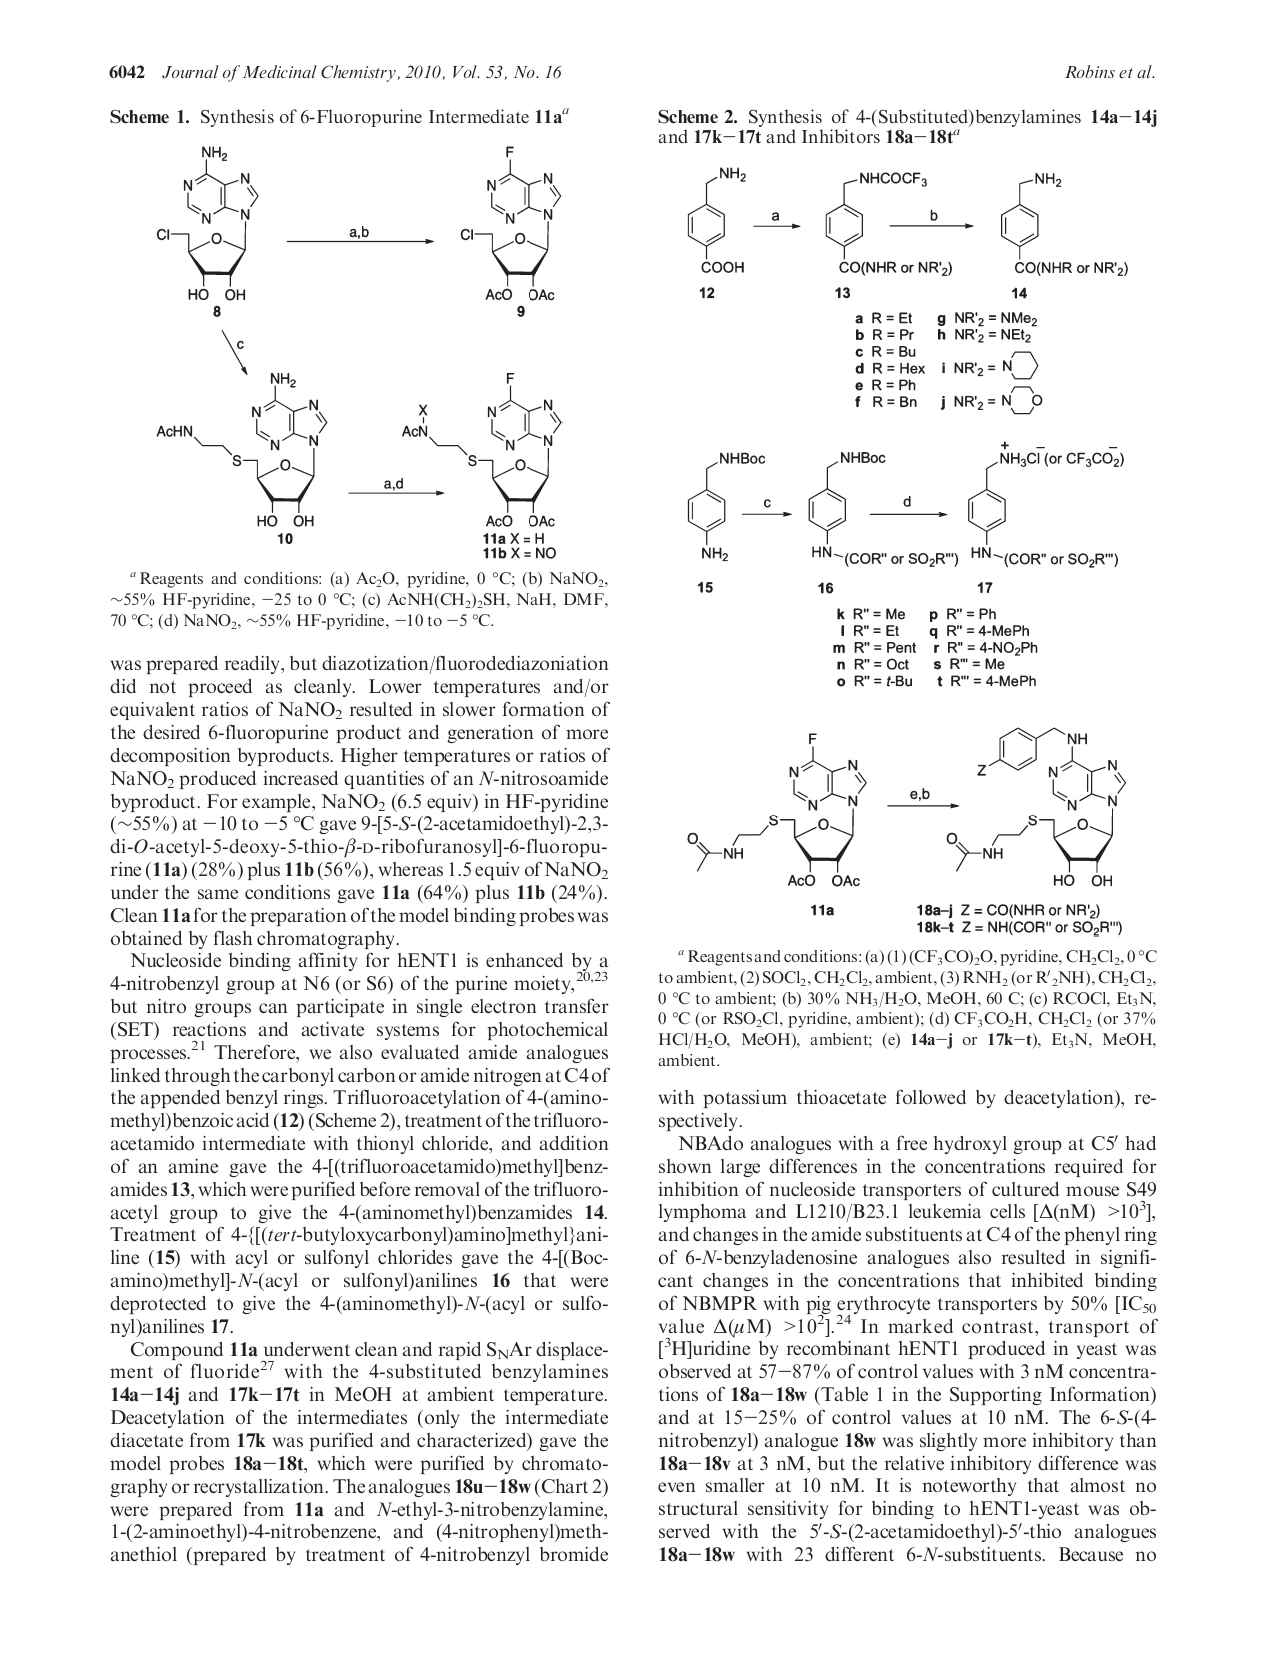exist_molecular: (946, 727, 1129, 888), (686, 731, 871, 888), (156, 371, 327, 529), (398, 370, 565, 531), (967, 449, 1130, 571), (805, 447, 964, 571), (457, 145, 567, 303), (153, 144, 259, 299), (997, 169, 1137, 277), (823, 169, 953, 281), (685, 444, 771, 563), (685, 165, 751, 275)
